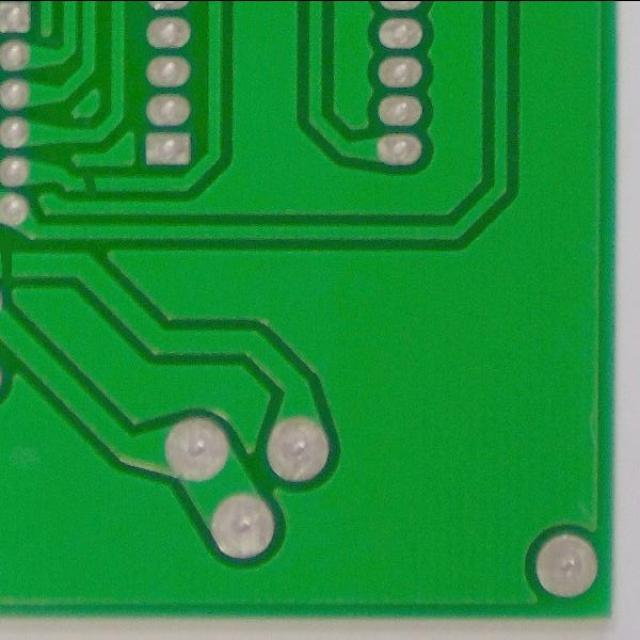Open_Circuit: (0, 234, 32, 296), (71, 163, 111, 202)
